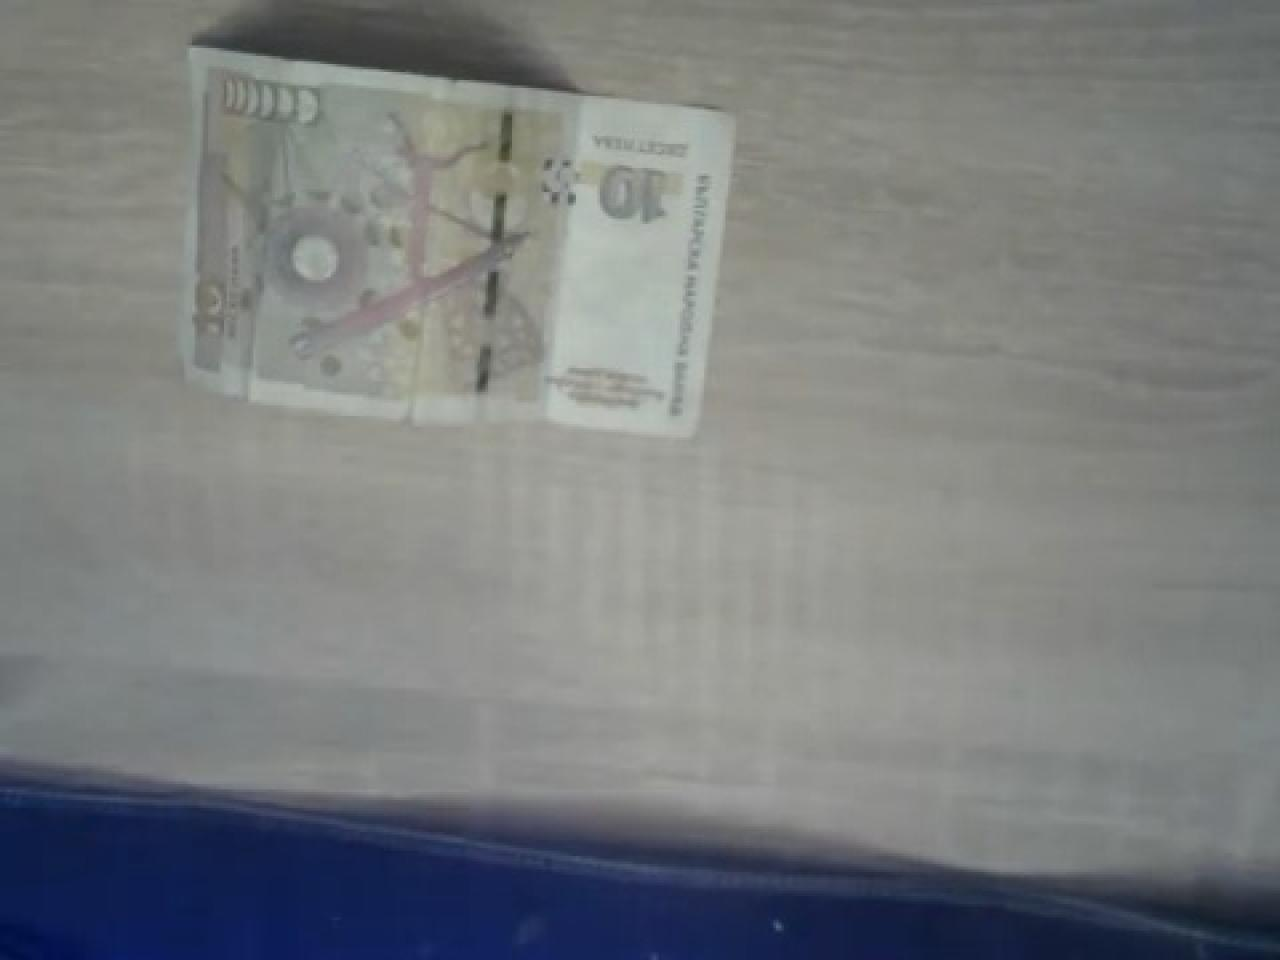10leva: (176, 40, 736, 435)
